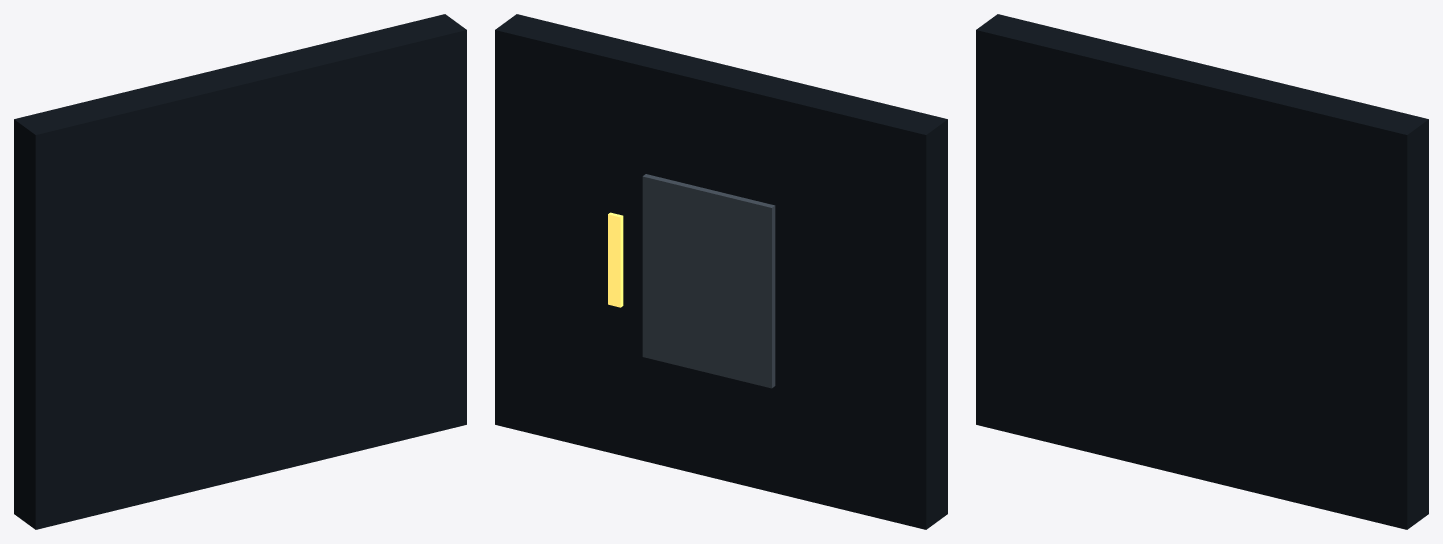
The model's file is np_kms_17_porte_couloirs_laboratoire.glb.
The picture shows the model from 3 angles, left to right: view 1: azimuth 30°, elevation 25°; view 2: azimuth 150°, elevation 25°; view 3: azimuth 330°, elevation 25°; orthographic projection.
Visible parts, largest first — view 1: Panneau; view 2: Panneau, Verrou, VoyantVertical; view 3: Panneau.
Boxes of the visible parts, box(x1,y1,x2,y2) form: Panneau: box(14, 14, 466, 529); Panneau: box(495, 14, 947, 529); Verrou: box(642, 174, 775, 388); VoyantVertical: box(608, 212, 623, 307); Panneau: box(976, 14, 1428, 529).
Size of the model in its own units: 4 by 3.5 by 0.425.
